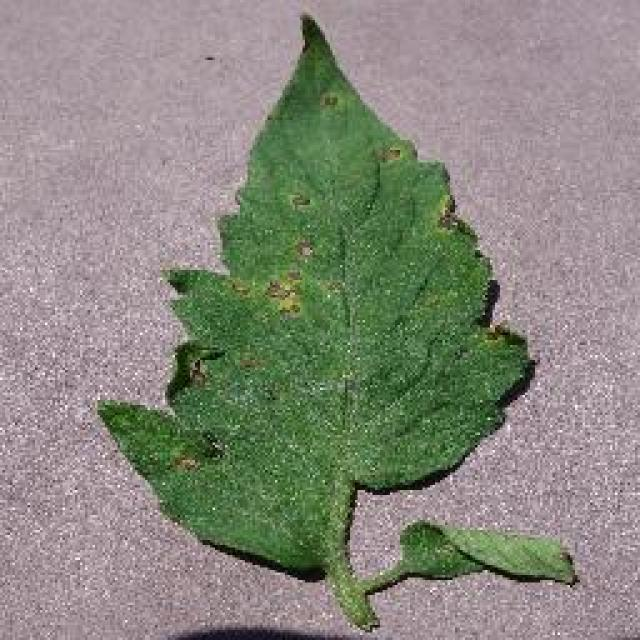Tomato target spot leaf: (104, 10, 538, 578)
